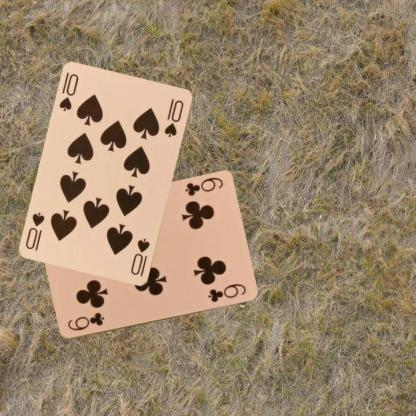10s: (128, 236, 151, 278), (57, 71, 80, 113)
6c: (182, 175, 224, 198), (65, 310, 105, 332)
